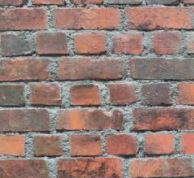brick: (56, 57, 124, 81), (124, 7, 194, 30), (55, 107, 123, 130), (130, 57, 194, 81), (54, 8, 121, 30), (132, 108, 194, 130), (56, 158, 123, 178), (1, 57, 53, 81), (1, 108, 51, 132), (1, 6, 49, 30), (131, 159, 194, 177), (33, 30, 71, 55), (111, 30, 145, 57), (149, 31, 183, 57), (1, 158, 44, 178), (73, 30, 106, 54), (140, 81, 173, 104), (1, 31, 33, 54), (29, 82, 61, 105), (141, 133, 174, 155), (29, 134, 63, 155), (69, 134, 102, 155), (68, 85, 102, 105), (108, 82, 137, 105), (106, 134, 136, 155), (1, 83, 26, 106), (1, 134, 27, 156), (176, 82, 194, 103), (180, 134, 194, 153)
